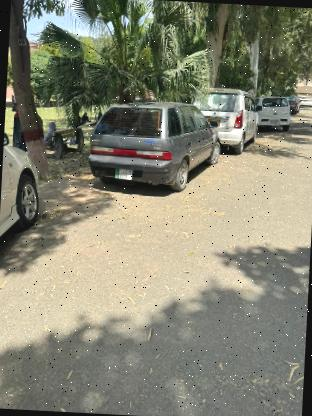car: (80, 93, 225, 198), (190, 80, 264, 156), (253, 90, 295, 137)
